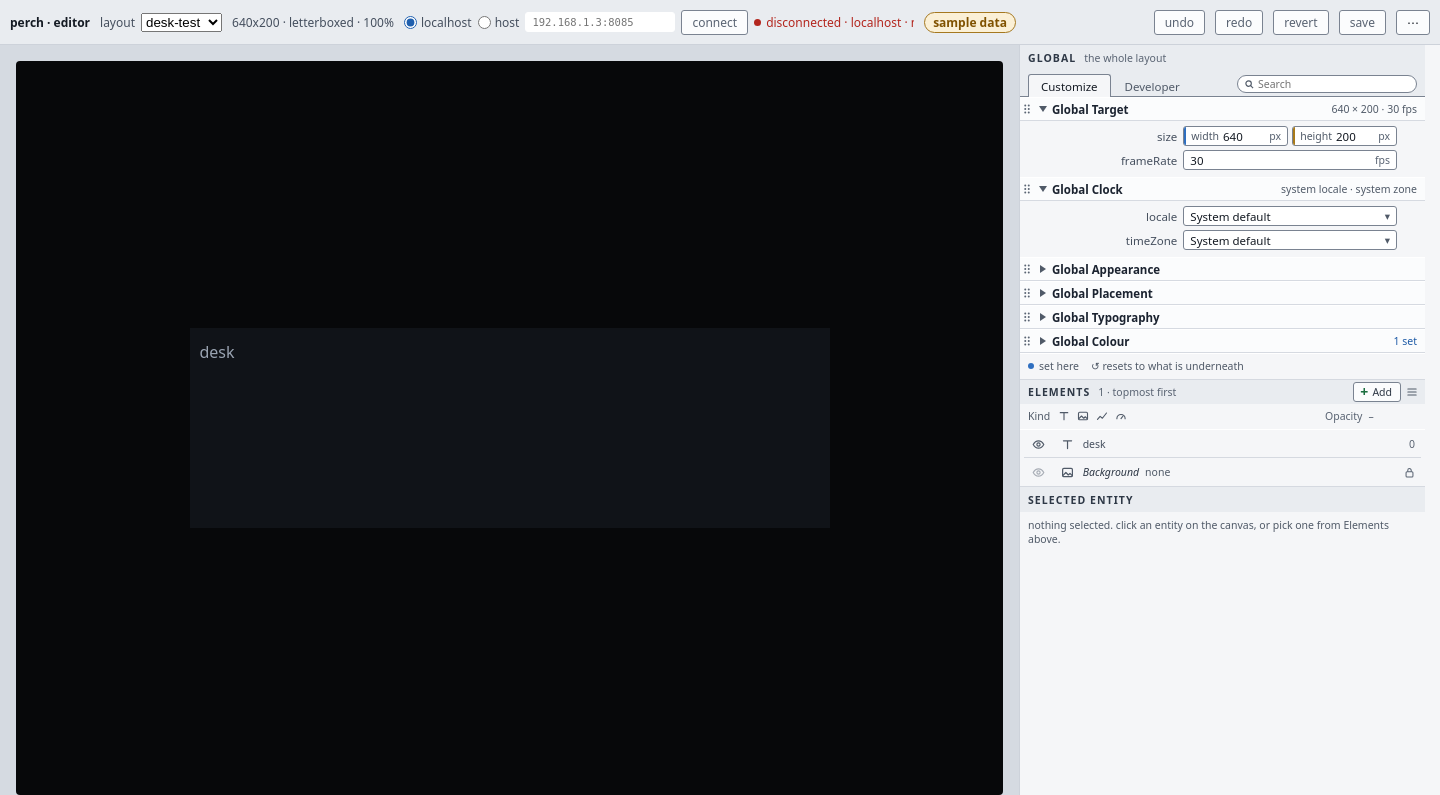
it: Save, from the keyboard and the menu › works in the browser too, where there is no host
The image size is (1440, 795).
Click the button "desk 0".
click(1067, 444)  # box [1052,430,1421,458]
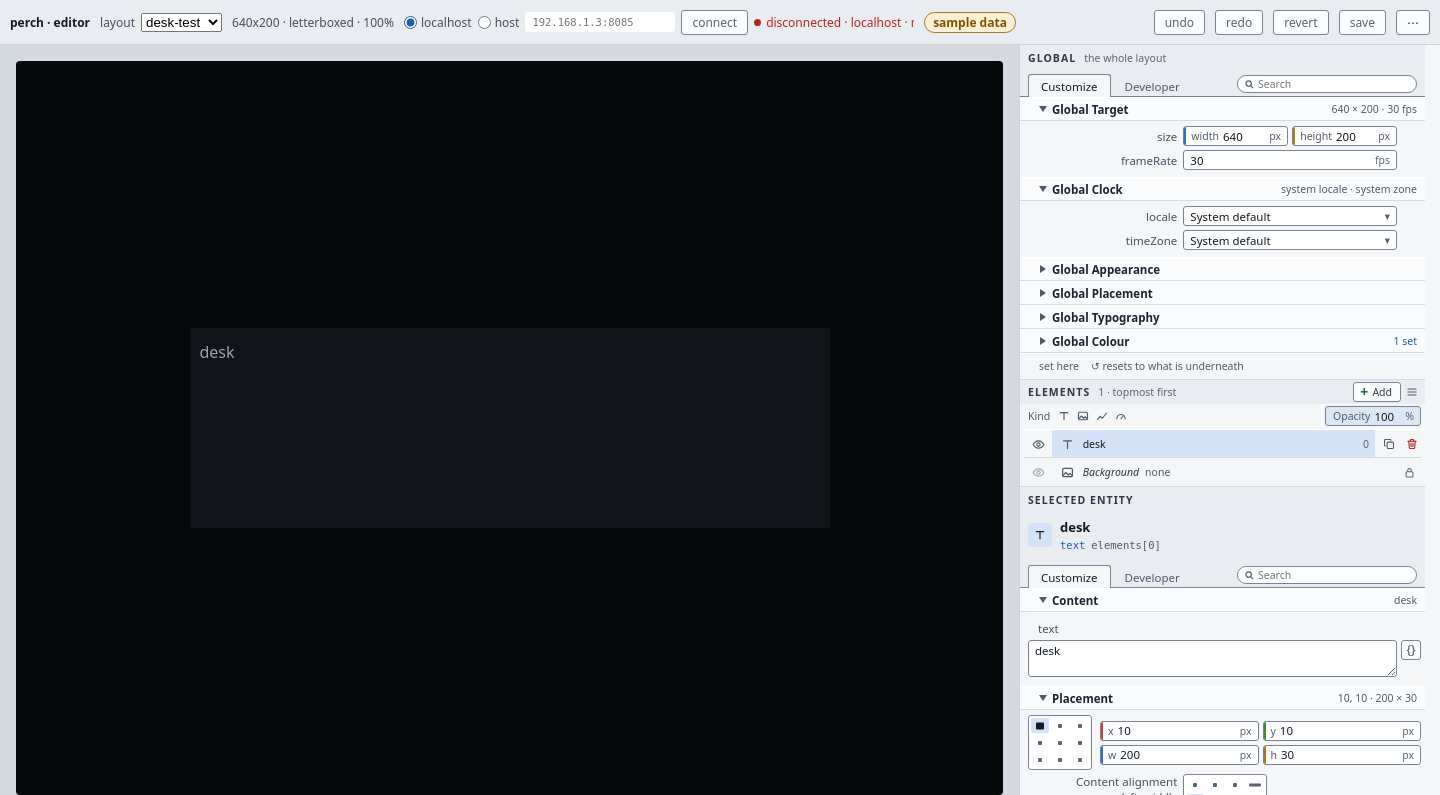
Replace the text in the number field labelled "w" with "150" at (1179, 755), box [1118,746,1240,764]
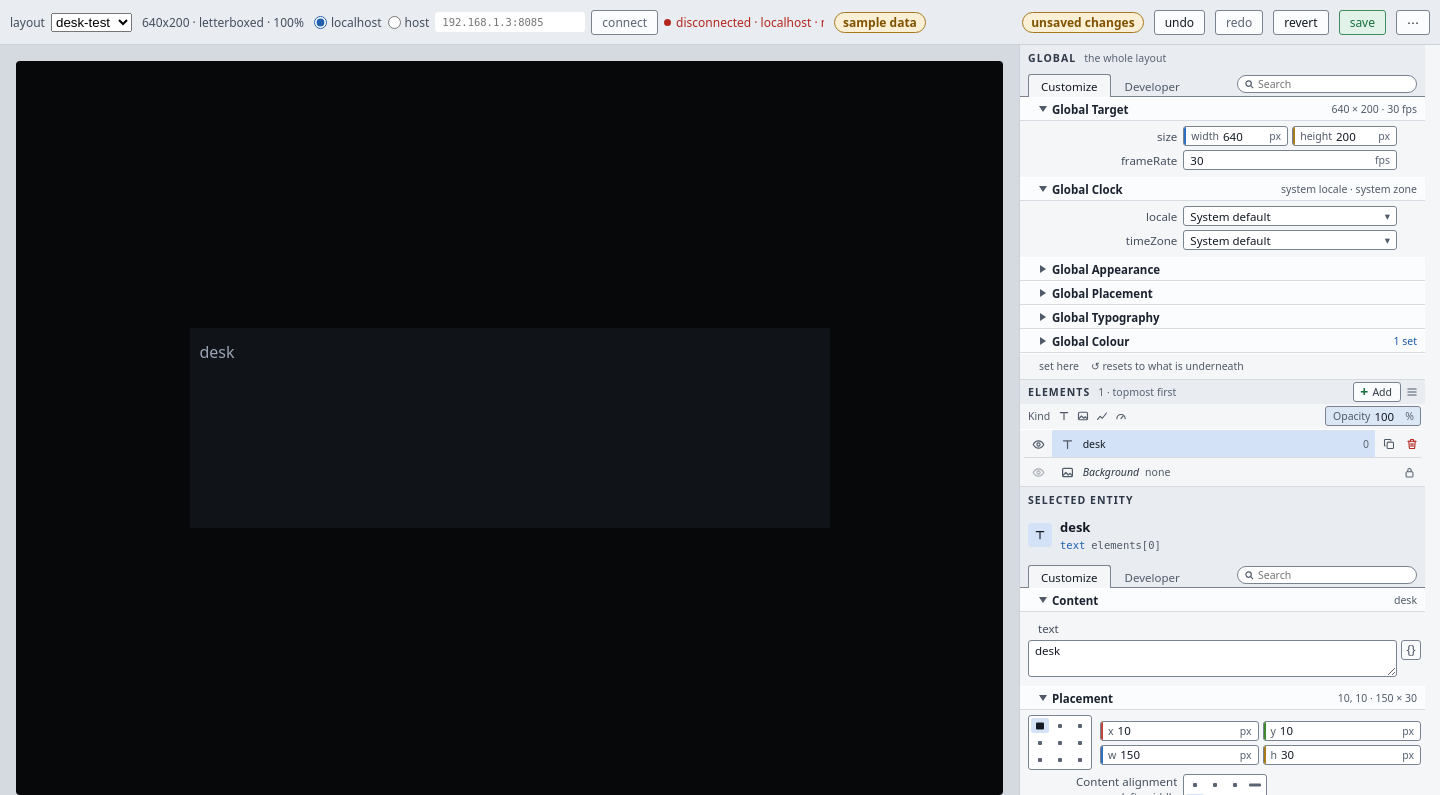
Press s
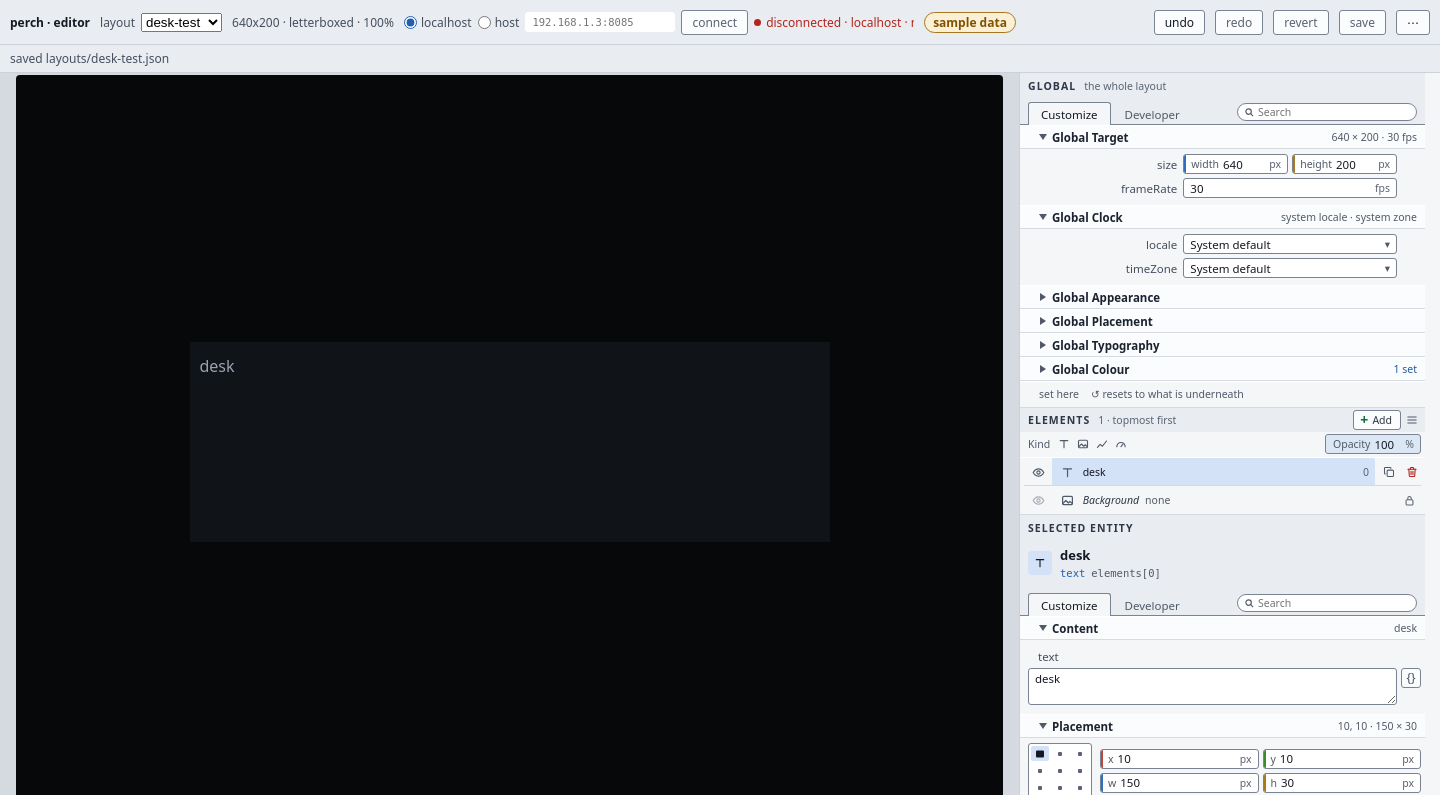
Check: the text "saved layouts/desk-test.json" is shown, box [0,45,1439,73]
